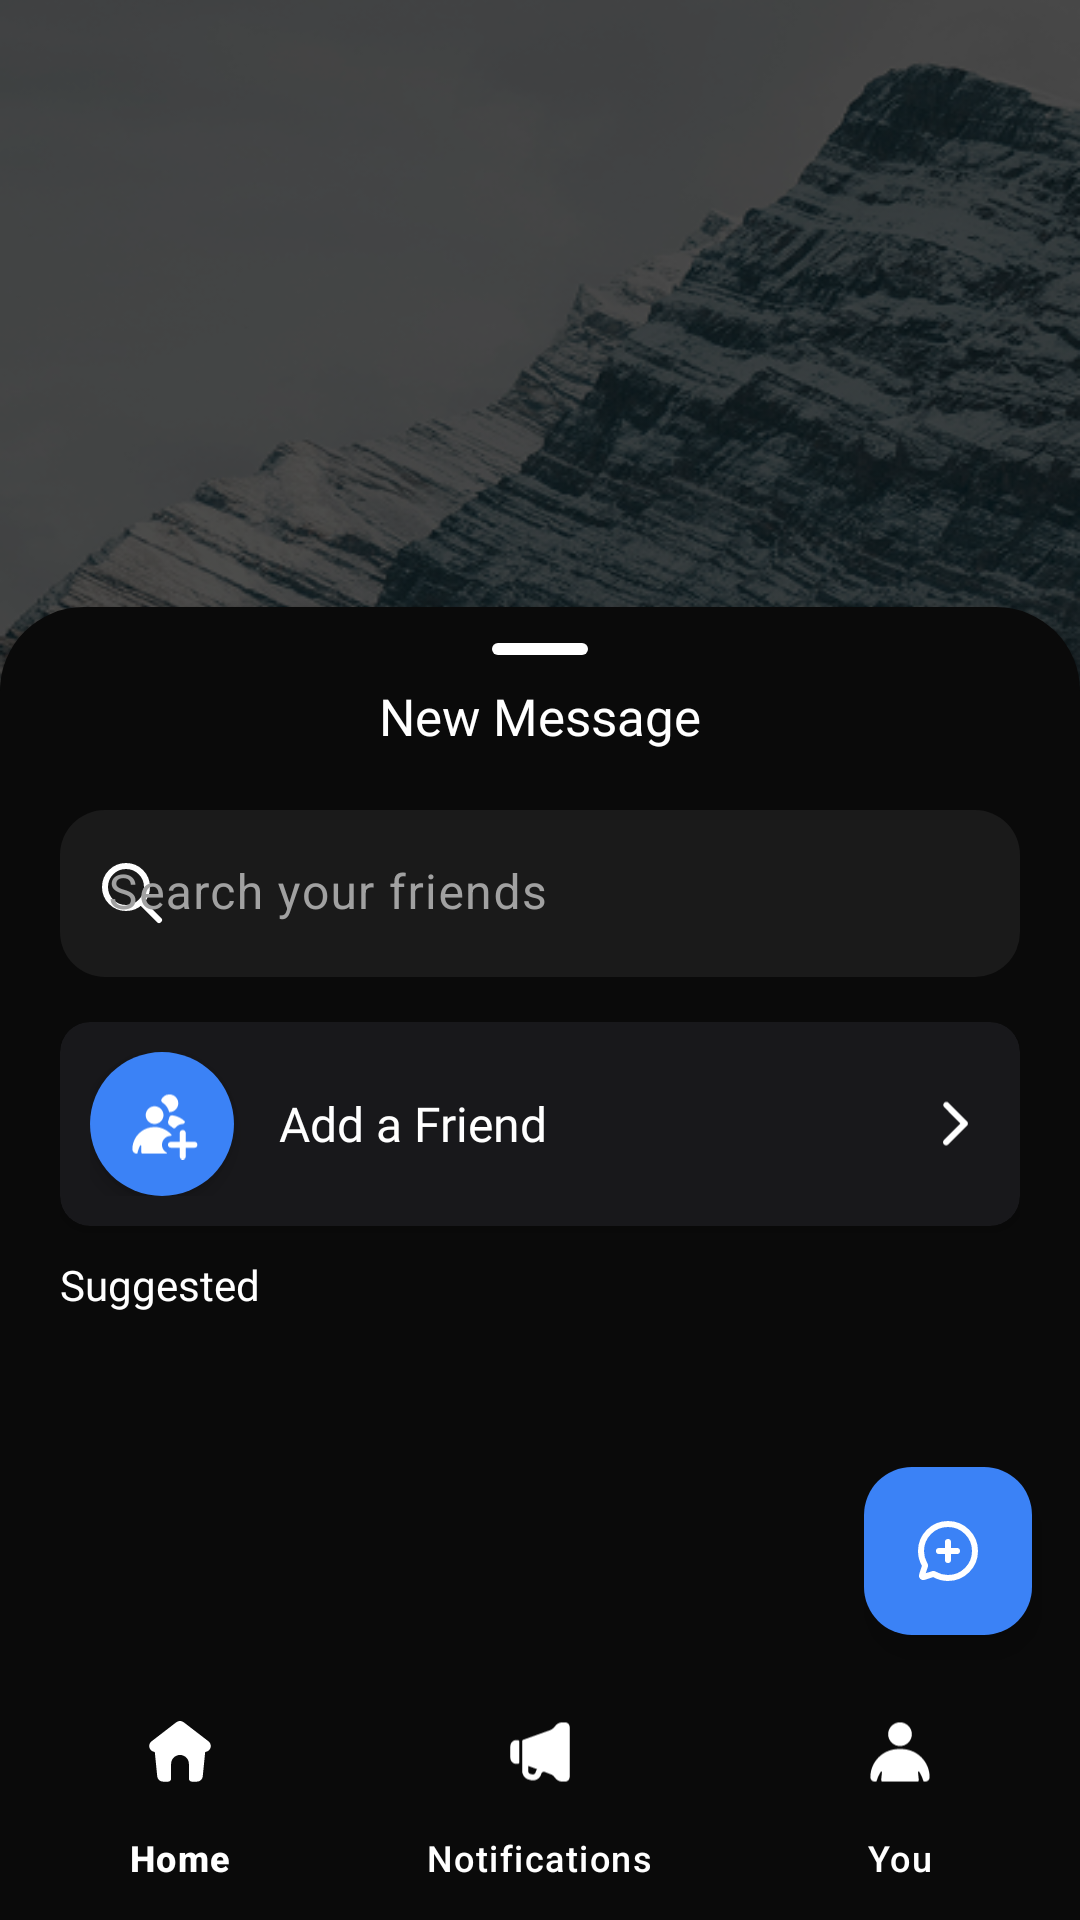

Icon click points for this 1080 × 1920 phone screenshot, format (x,y):
Add: (948,1551)
chevron right: (955,1123)
